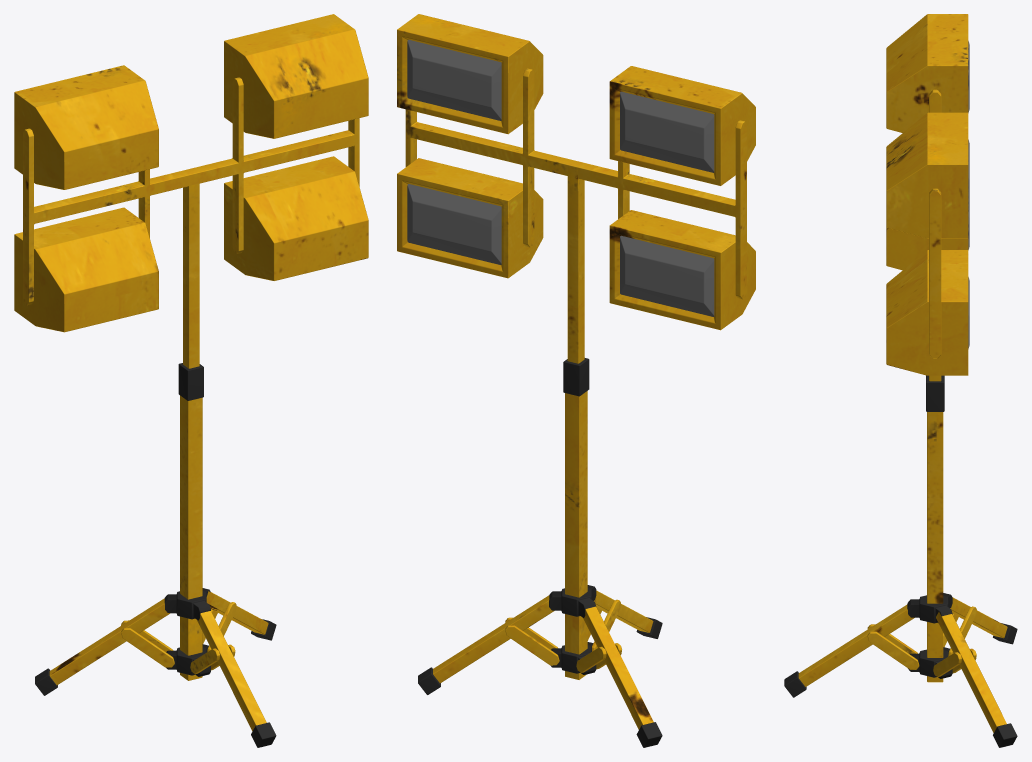
The model's file is Construction_Floor_ShortTripod_4Heads.fbx.
3 renders of one model, left to right at view 1: azimuth 30°, elevation 25°; view 2: azimuth 150°, elevation 25°; view 3: azimuth 270°, elevation 25°, orthographic. The views are drawn at different scales.
Parts seen in each view (by area): view 1: Construction_Floor_ShortTripod_4Heads_LOD0; view 2: Construction_Floor_ShortTripod_4Heads_LOD0; view 3: Construction_Floor_ShortTripod_4Heads_LOD0.
Part boxes in pixels (x1,y1,x2,y2): Construction_Floor_ShortTripod_4Heads_LOD0: (14,14,368,747); Construction_Floor_ShortTripod_4Heads_LOD0: (397,14,755,747); Construction_Floor_ShortTripod_4Heads_LOD0: (784,14,1017,747).
Size of what is drawn, in the model's own units: 90 by 163 by 56.85.
Materials: 4 (1 with a texture image).
